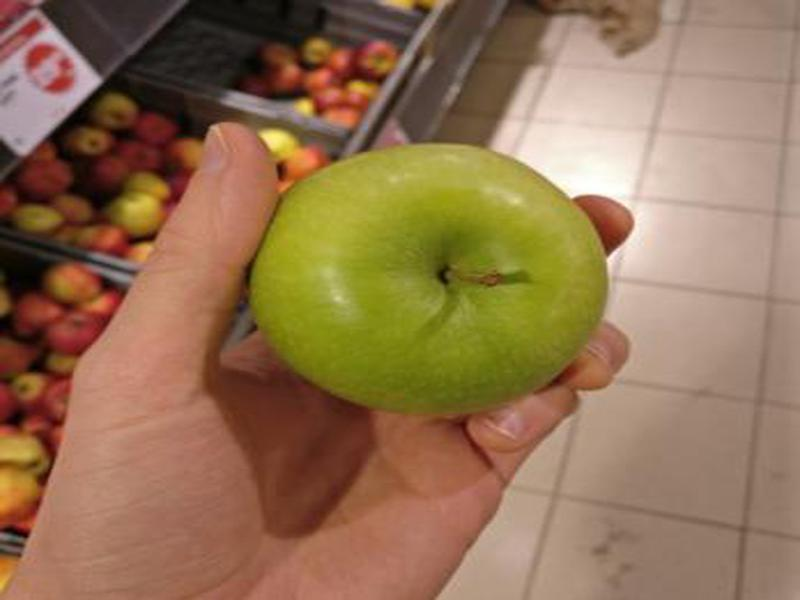green apple: (250, 141, 611, 417)
